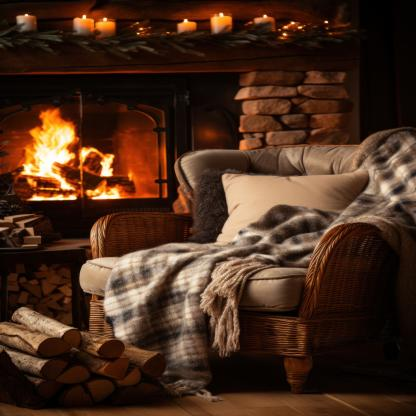fire: (19, 104, 134, 200)
